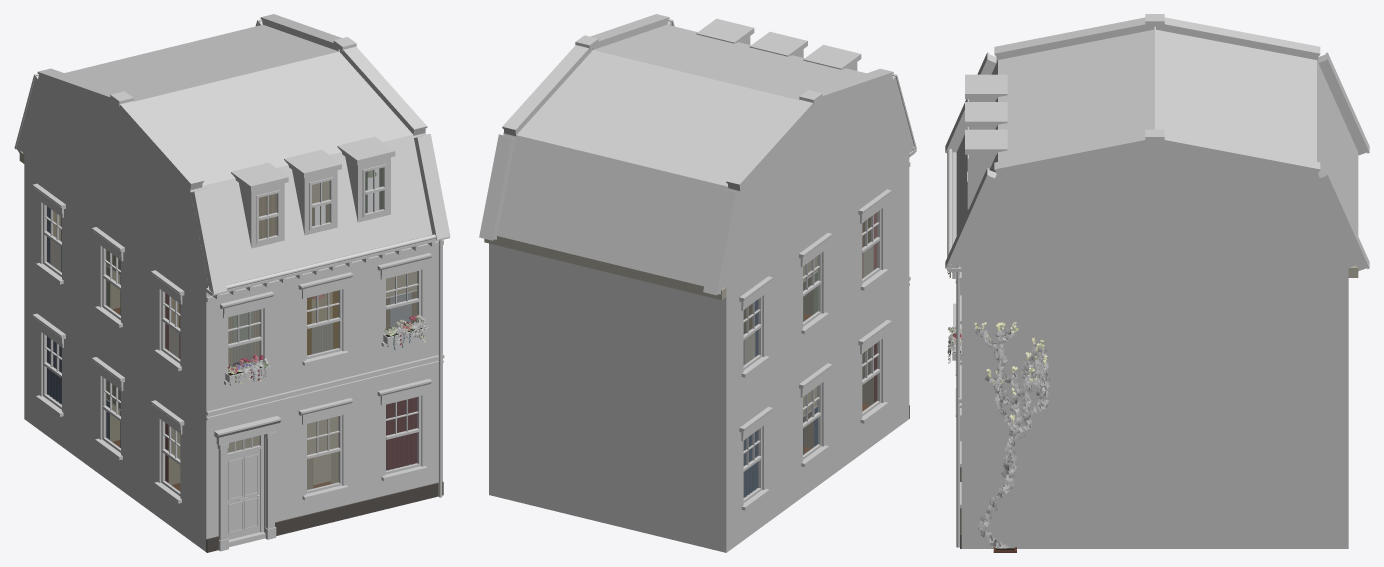
Rendered from Opposite_Opposite1_1.glb.
The picture shows the model from 3 angles, left to right: view 1: azimuth 30°, elevation 25°; view 2: azimuth 150°, elevation 25°; view 3: azimuth 270°, elevation 25°; orthographic projection. The views are drawn at different scales.
Parts seen in each view (by area): view 1: Opposite_Opposite1_1; view 2: Opposite_Opposite1_1; view 3: Opposite_Opposite1_1.
Part boxes in pixels (box(x1,y1,x2,y2)): Opposite_Opposite1_1: box(14, 14, 450, 552); Opposite_Opposite1_1: box(479, 14, 916, 552); Opposite_Opposite1_1: box(945, 14, 1369, 552).
Size of the model in its own units: 6.32 by 9.4 by 8.77.
